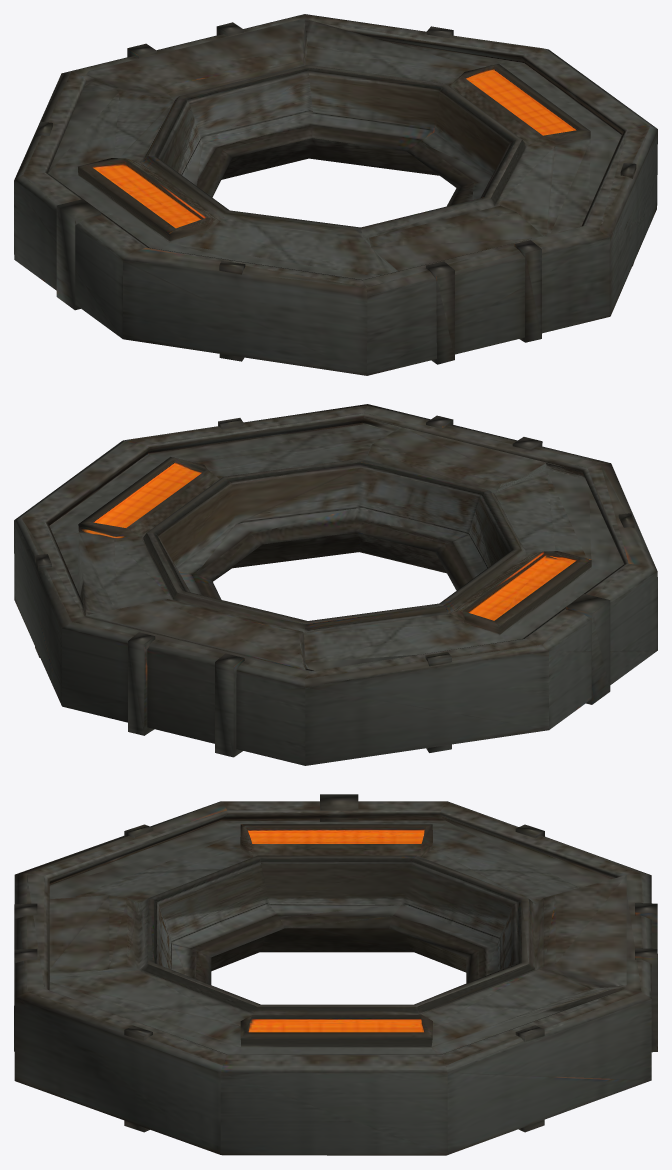
3 views of the same model, one above another, from view 1: azimuth 30°, elevation 25°; view 2: azimuth 150°, elevation 25°; view 3: azimuth 270°, elevation 25° (orthographic). The views are drawn at different scales.
Bounding box in the file's own units: 6 × 1 × 6.
Materials: 1 (1 with a texture image).
